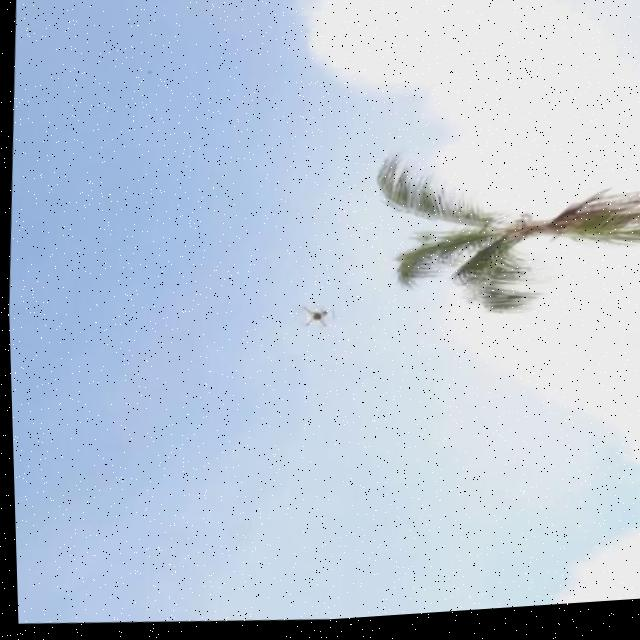drones: (278, 278, 367, 371)
